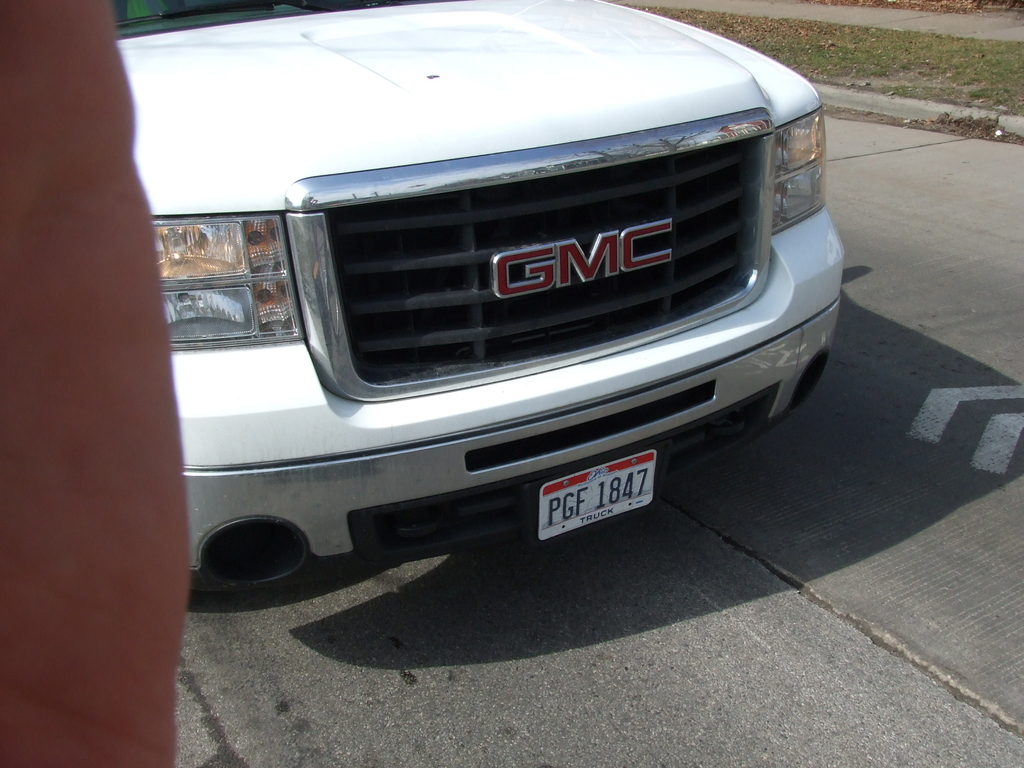car: (85, 1, 896, 633)
